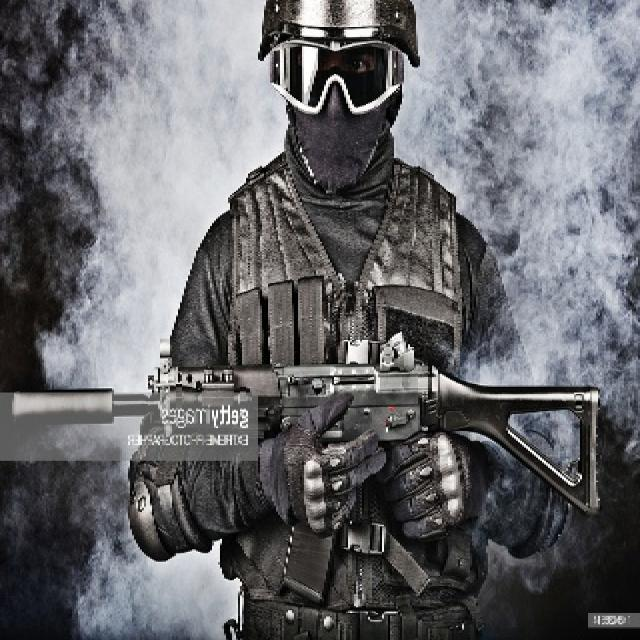rifle: (3, 328, 619, 523)
